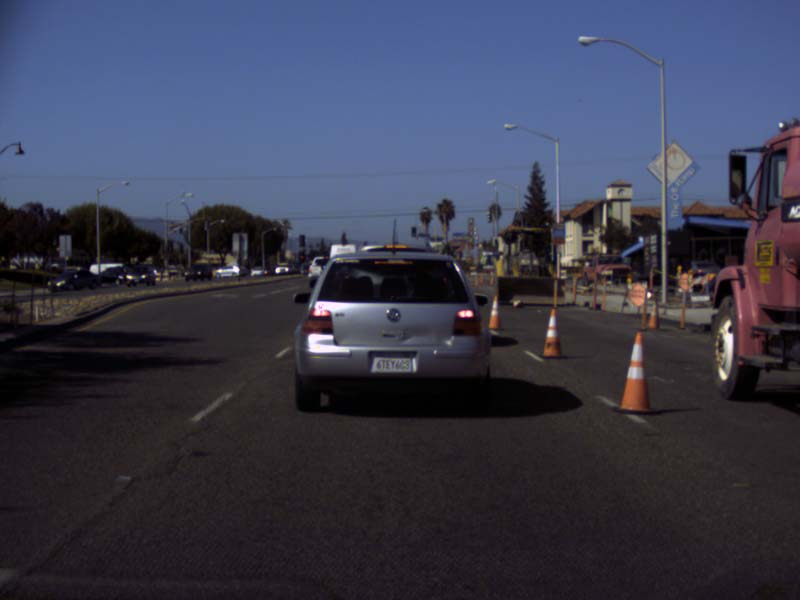Green: (410, 227, 416, 237)
Red: (298, 252, 305, 261)
